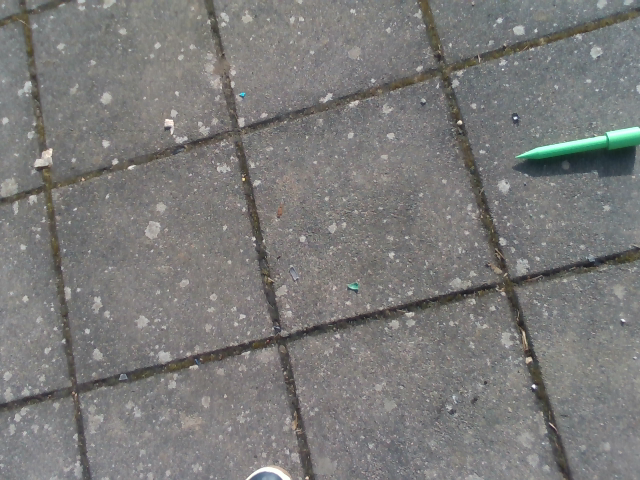Probe: (507, 118, 640, 166)
